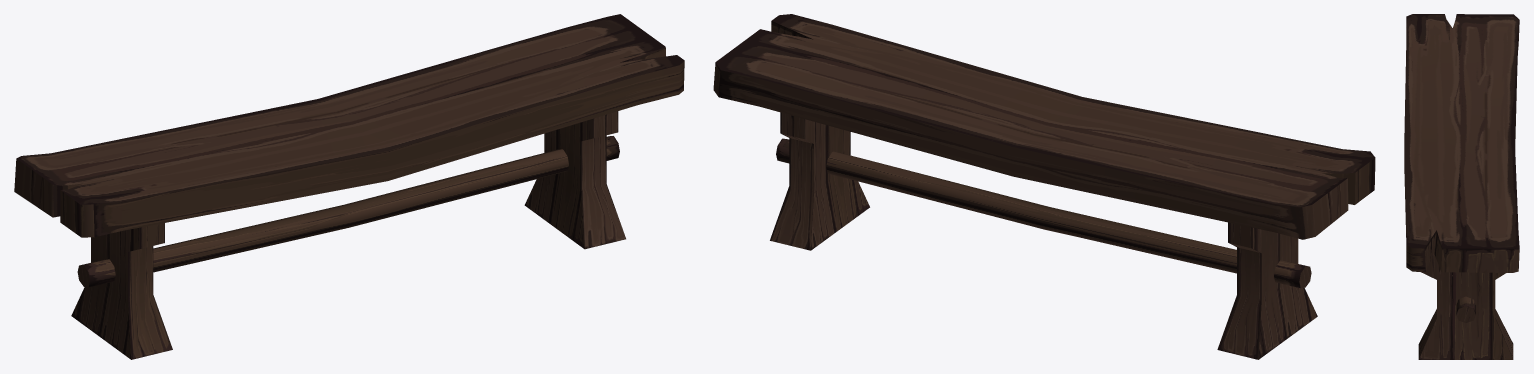
File: SM_PROP_chair_battle_02.fbx
3 renders of one model, left to right at view 1: azimuth 30°, elevation 25°; view 2: azimuth 150°, elevation 25°; view 3: azimuth 270°, elevation 25°, orthographic. The views are drawn at different scales.
Parts seen in each view (by area): view 1: SM_PROP_chair_battle_02; view 2: SM_PROP_chair_battle_02; view 3: SM_PROP_chair_battle_02.
Part boxes in pixels (box(x1,y1,x2,y2)): SM_PROP_chair_battle_02: box(14, 14, 684, 359); SM_PROP_chair_battle_02: box(713, 14, 1375, 359); SM_PROP_chair_battle_02: box(1404, 14, 1519, 359).
Bounding box in the file's own units: 201 × 54.48 × 41.95.
